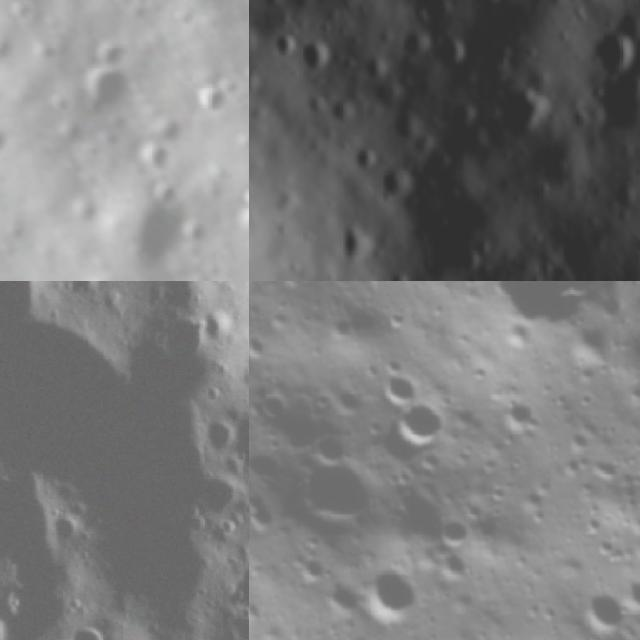crater: (278, 432, 397, 545), (352, 540, 441, 634), (121, 201, 187, 275), (487, 82, 554, 148), (390, 389, 451, 454), (582, 19, 640, 83), (372, 354, 432, 410), (572, 584, 630, 640), (80, 59, 131, 118), (329, 222, 381, 277), (292, 33, 338, 84), (249, 378, 296, 427), (200, 472, 242, 524), (374, 160, 419, 206), (430, 30, 472, 75), (133, 140, 184, 177), (189, 82, 236, 118), (201, 301, 237, 344), (604, 175, 640, 217), (345, 142, 384, 180), (267, 29, 303, 66), (450, 247, 485, 281), (203, 418, 240, 450), (528, 250, 562, 281), (249, 16, 264, 74), (544, 266, 576, 281), (79, 627, 107, 640)
